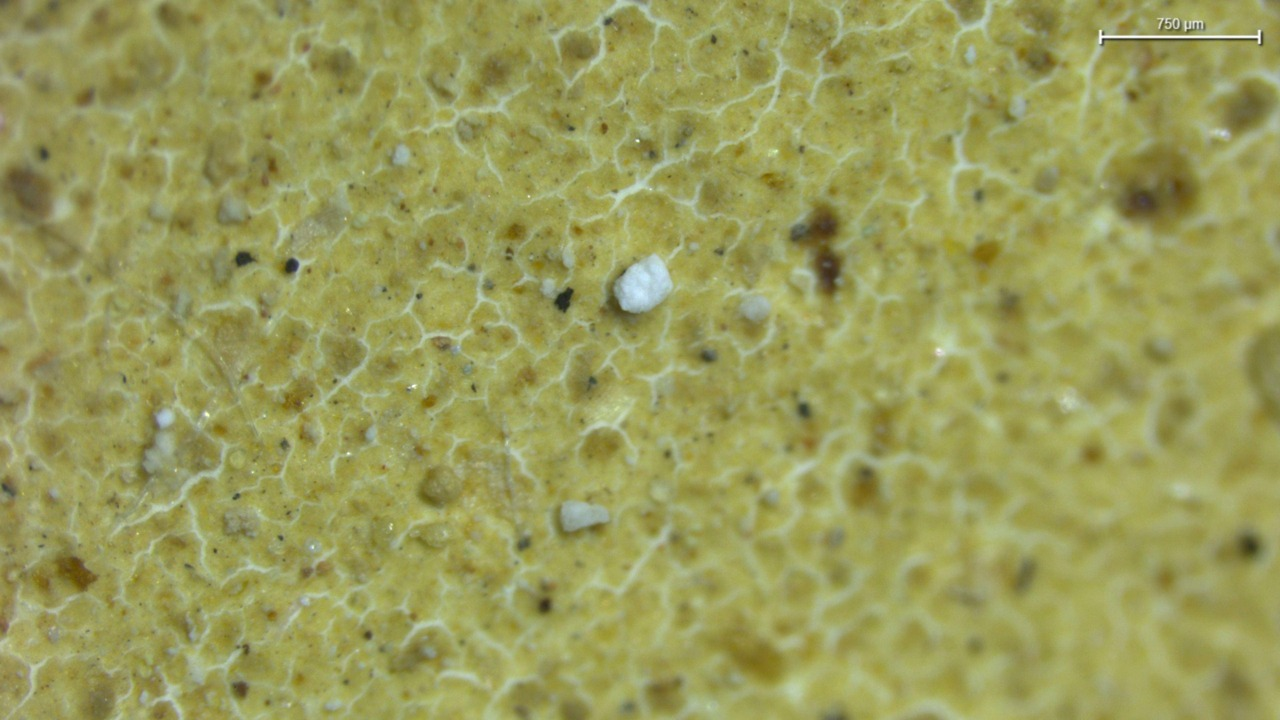microplastic_fragment: (614, 254, 673, 313), (561, 501, 609, 532)
